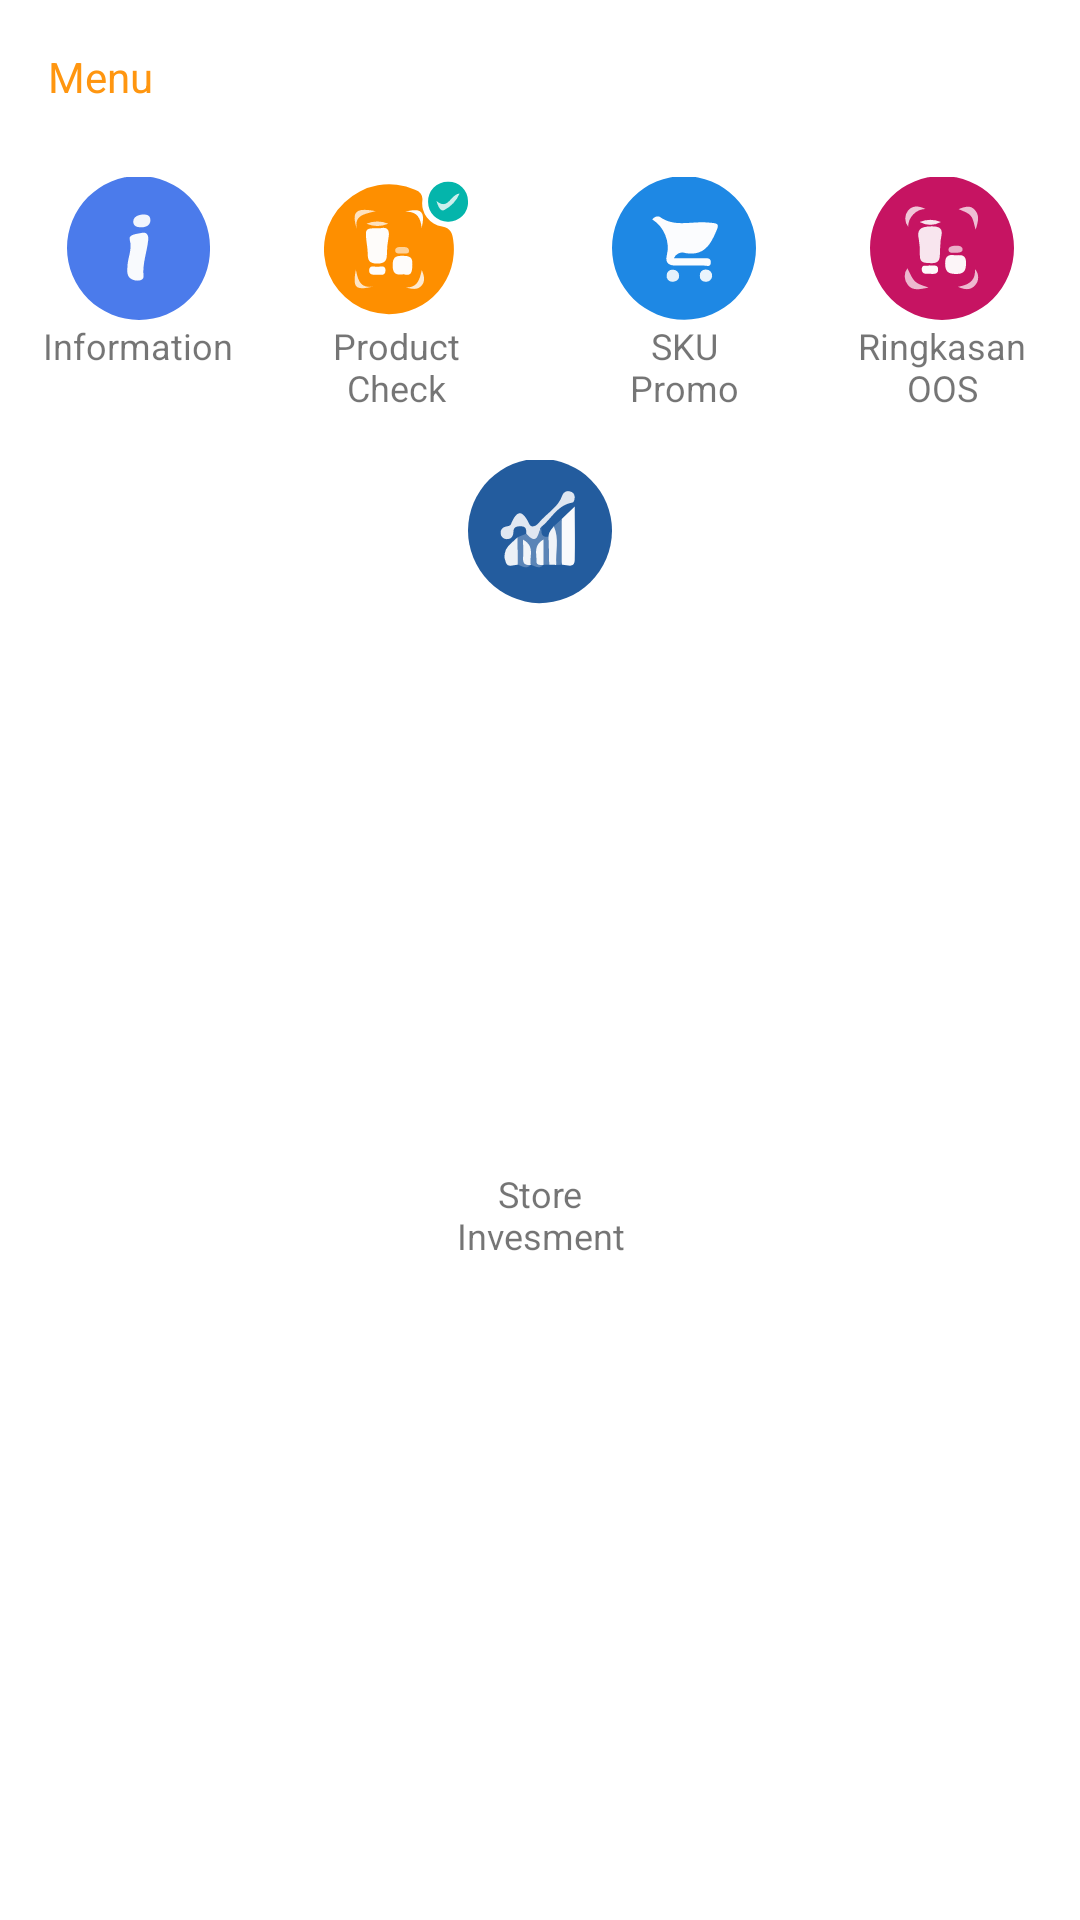

Icons on this 1080 × 1920 Android screen, each with the point to tap as (x,y):
cart: (684,248)
graph: (540,532)
